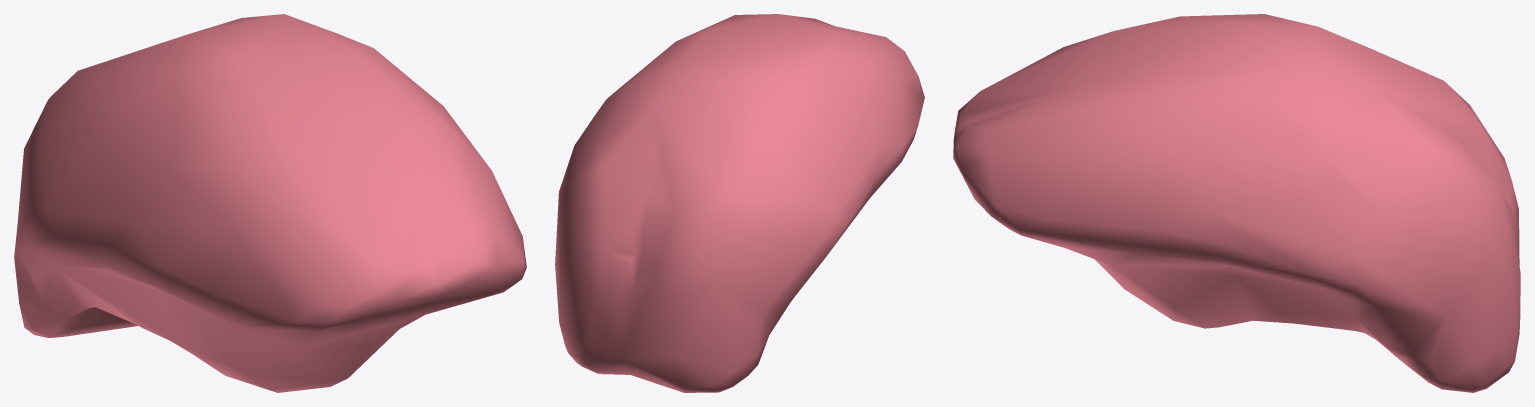
The model's file is tongue.glb.
3 views of the same model, side by side, from view 1: azimuth 30°, elevation 25°; view 2: azimuth 150°, elevation 25°; view 3: azimuth 270°, elevation 25° (orthographic). The views are drawn at different scales.
Visible parts, largest first — view 1: grp1.1558; view 2: grp1.1558; view 3: grp1.1558.
Boxes of the visible parts, x1=… form: grp1.1558: x1=14, y1=14, x2=526, y2=392; grp1.1558: x1=555, y1=14, x2=924, y2=392; grp1.1558: x1=953, y1=14, x2=1520, y2=392.
Size of the model in its own units: 0.0388 by 0.0364 by 0.0594.
